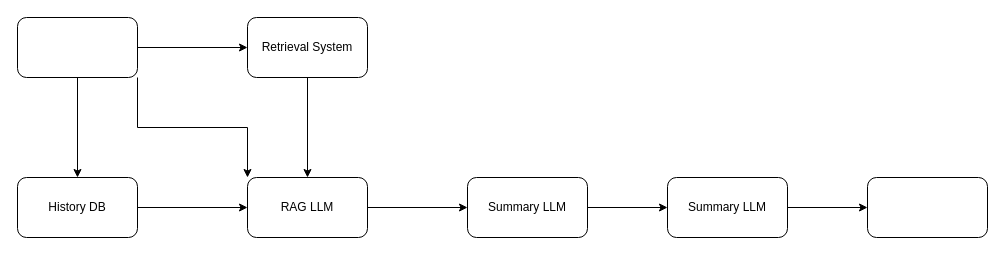
Image size: 1005x255. Some labels were removed from this diagram. Each missing label, with the box of its shape:
Output To User: (866, 176, 988, 238)
User Input: (16, 16, 138, 78)
